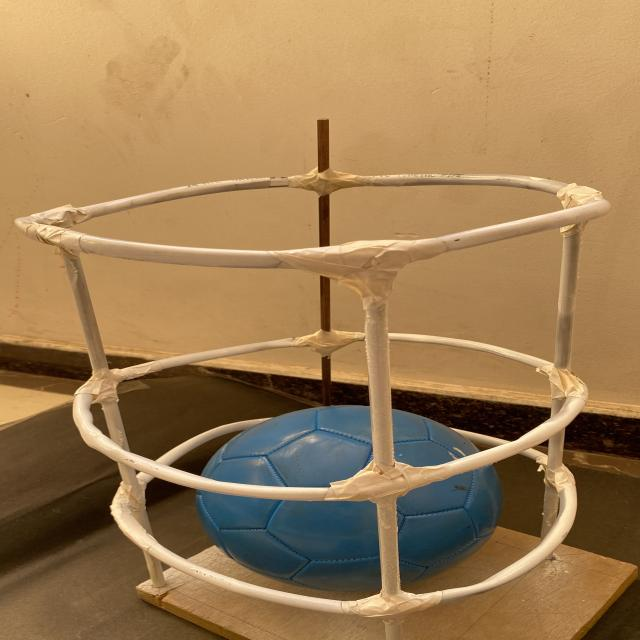blue_ball: (178, 405, 522, 574)
silo: (0, 151, 640, 635)
